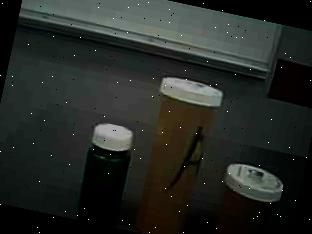Bottle A: (124, 64, 232, 234)
Bottle B: (207, 155, 286, 234)
